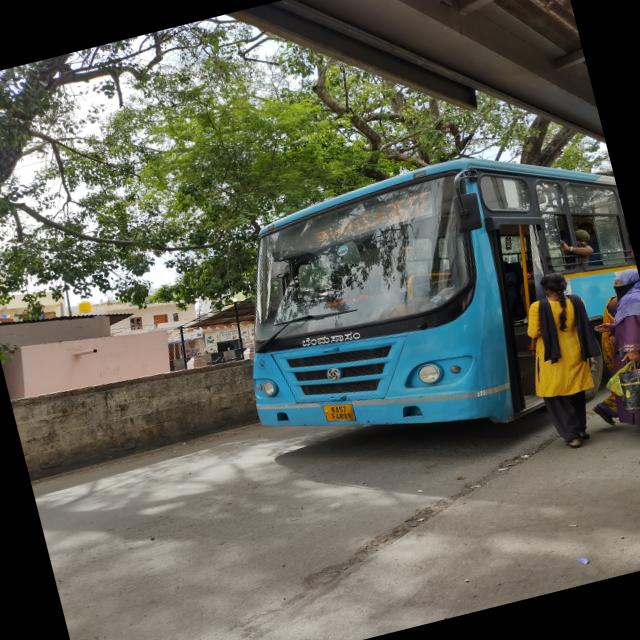bus: (209, 96, 640, 480)
display: (271, 185, 442, 262)
dnumber: (386, 190, 435, 224)
